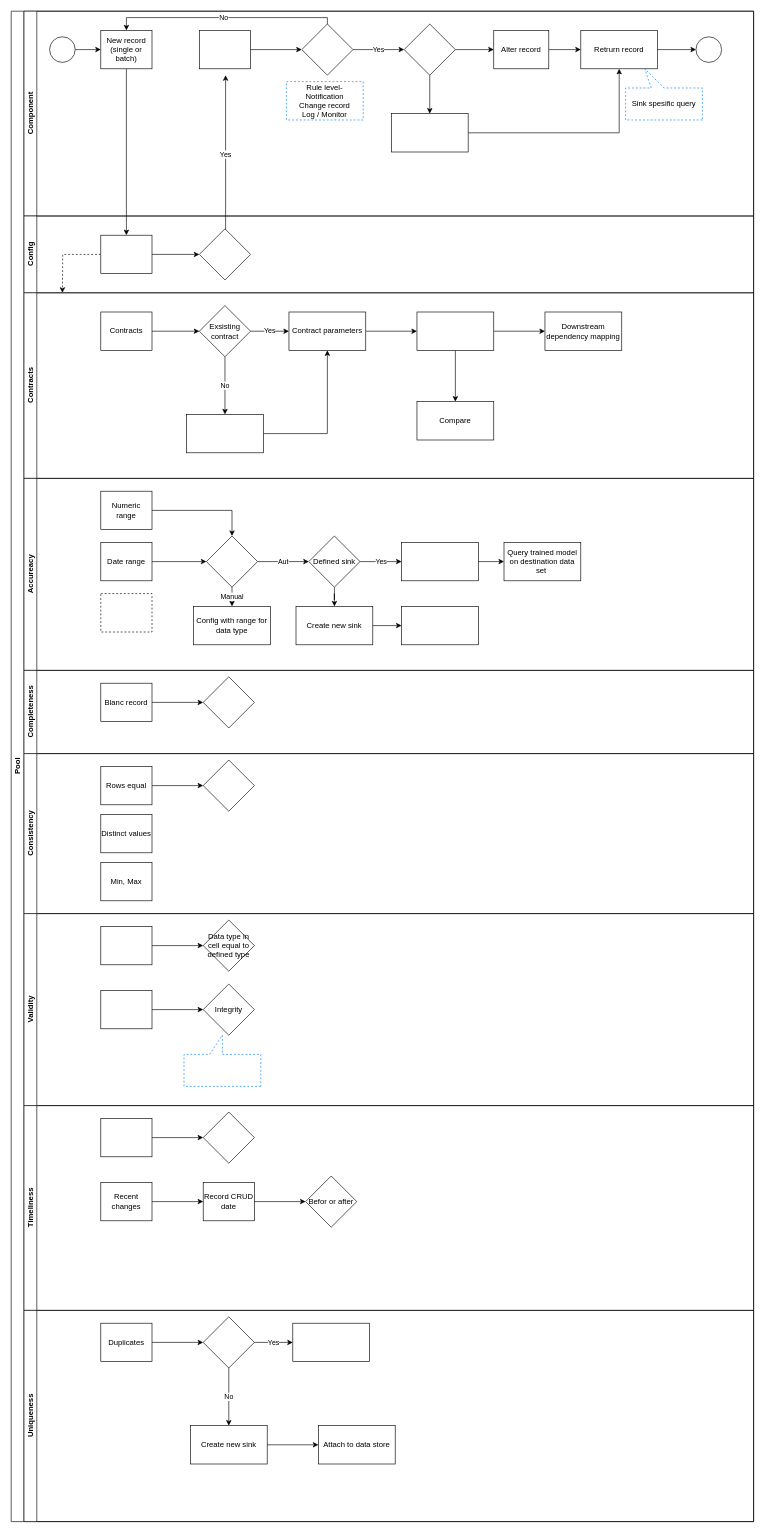
This 765x1533 diagram has some shape labels left out. The shapes that lost their labels are listed below. From the top down, each one's centre as x and y in pixels, then its label:
At (x=225, y=49): "Check record".
At (x=327, y=49): "Rule trigger".
At (x=429, y=49): "Rule action".
At (x=429, y=132): "Monitor & report".
At (x=126, y=254): "Rules engine".
At (x=225, y=254): "Is rule active".
At (x=455, y=330): "Validate contact dependency mapping".
At (x=224, y=433): "Create new contract".
At (x=232, y=561): "Manual or detected range".
At (x=439, y=561): "Anomoly detection".
At (x=126, y=612): "MDM standards?".
At (x=439, y=625): "Train new model".
At (x=228, y=702): "Is null or **".
At (x=126, y=945): "Type".
At (x=126, y=1009): "Relations".
At (x=222, y=1060): "MDM".
At (x=126, y=1137): "Data is fresh".
At (x=228, y=1342): "Known sink".
At (x=331, y=1342): "Lookup record in sink".
